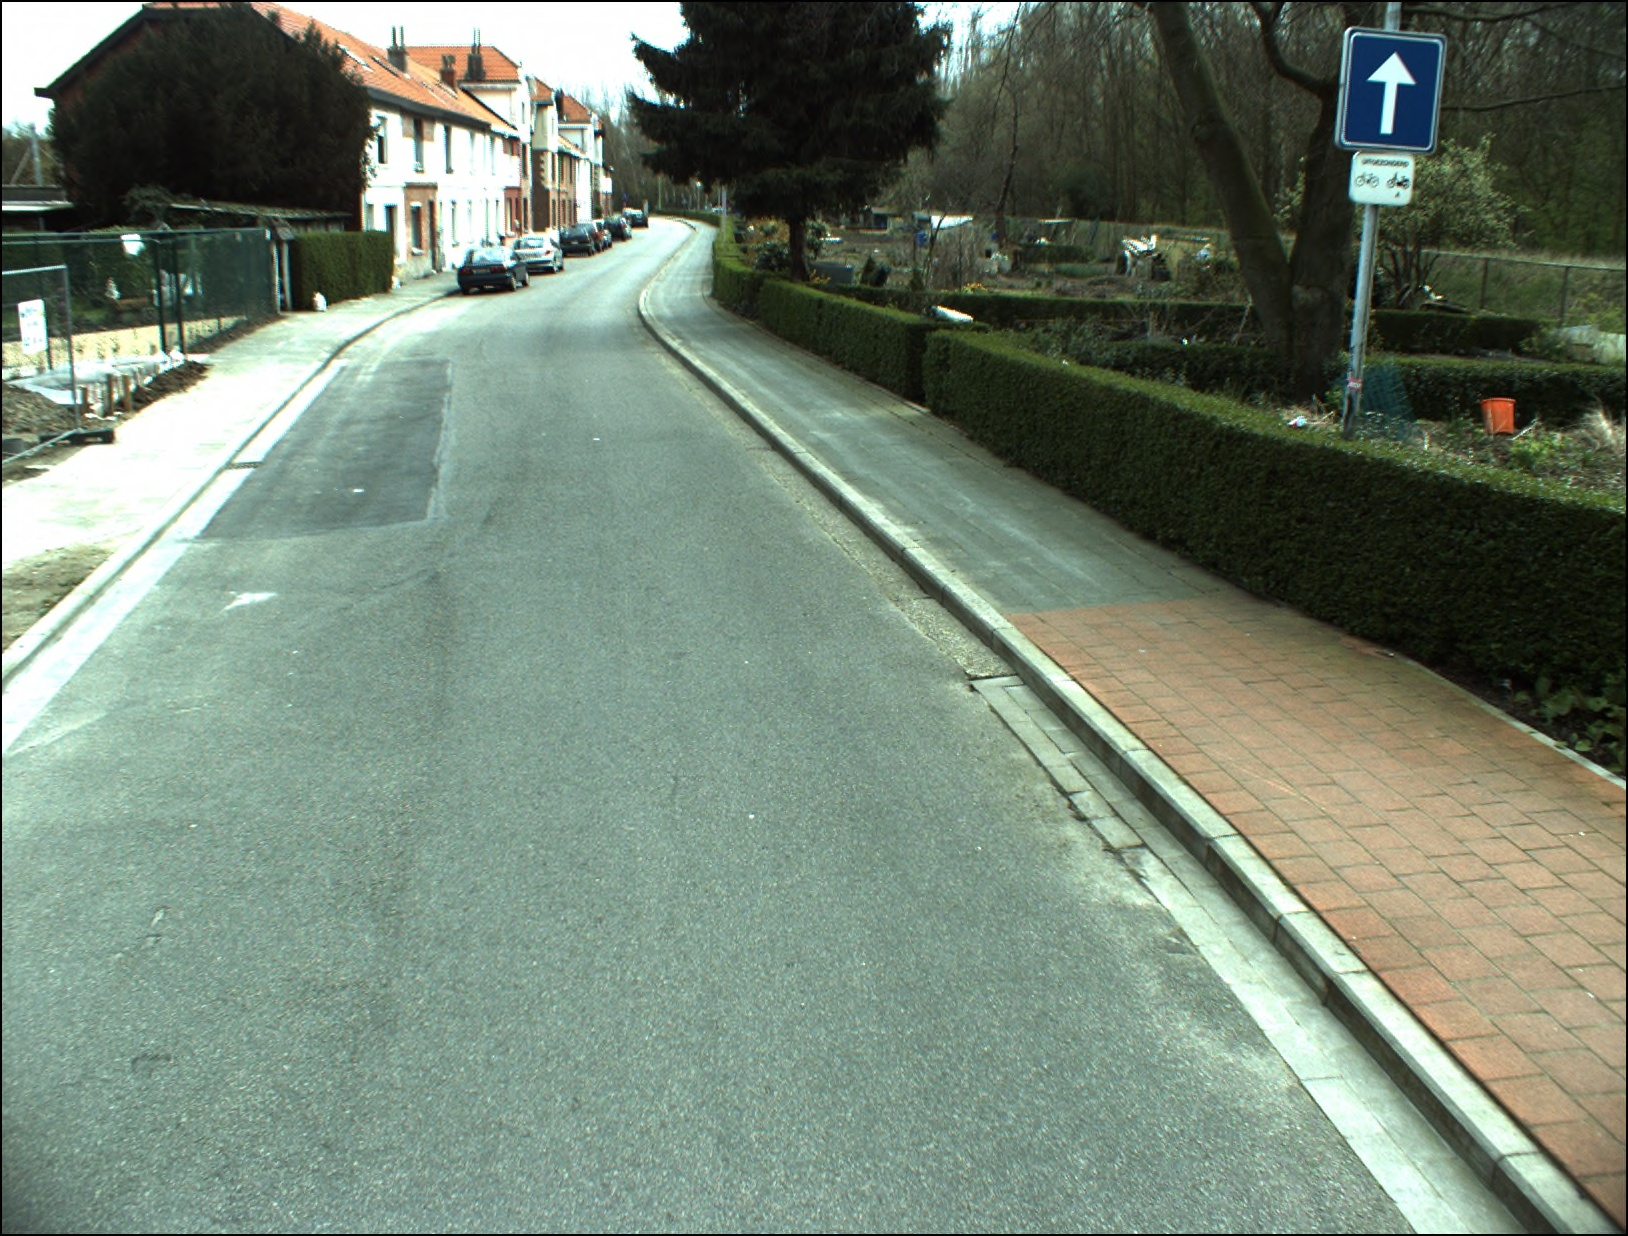oneway: (1341, 31, 1441, 152)
